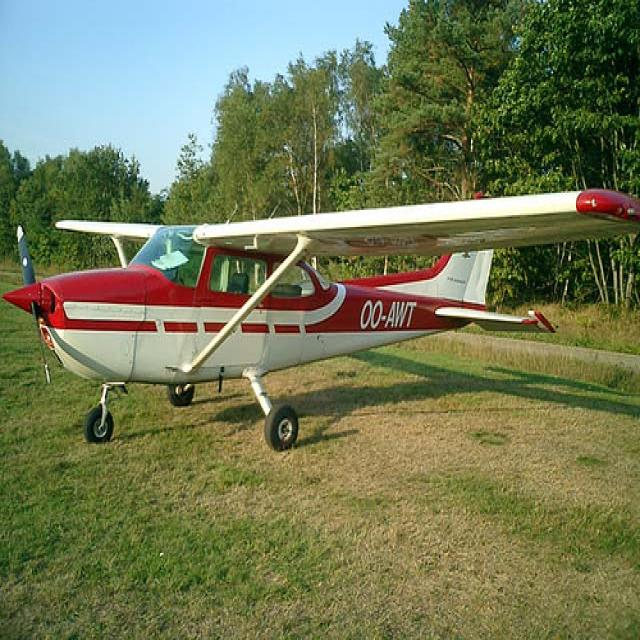aeroplane: (3, 191, 639, 454)
